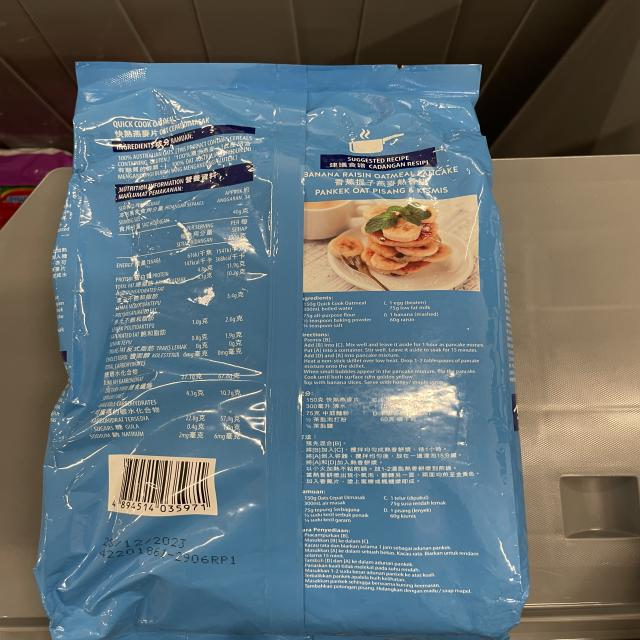object_name: (72, 66, 512, 640)
